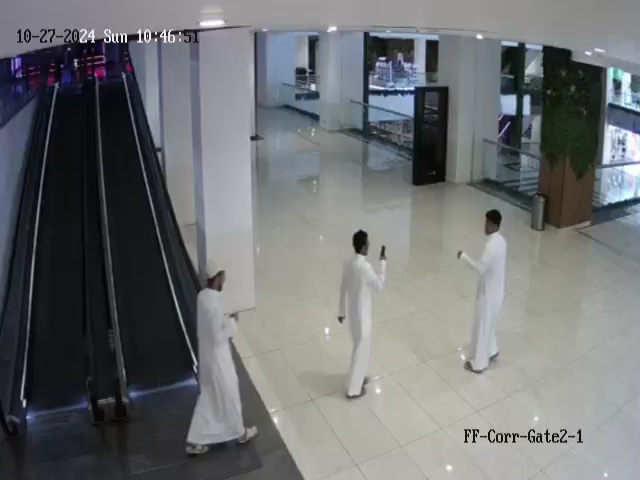male: (185, 264, 259, 457), (336, 229, 387, 400), (457, 209, 508, 374)
